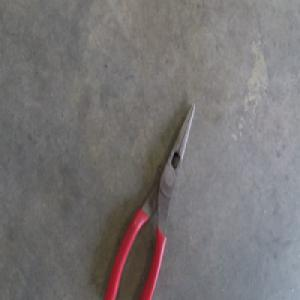Pliers: (106, 105, 196, 298)
